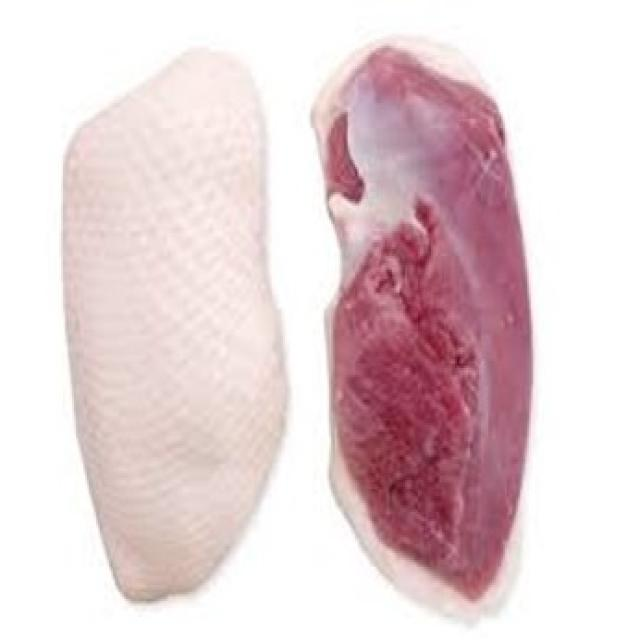duck: (312, 39, 532, 617), (64, 53, 284, 599)
